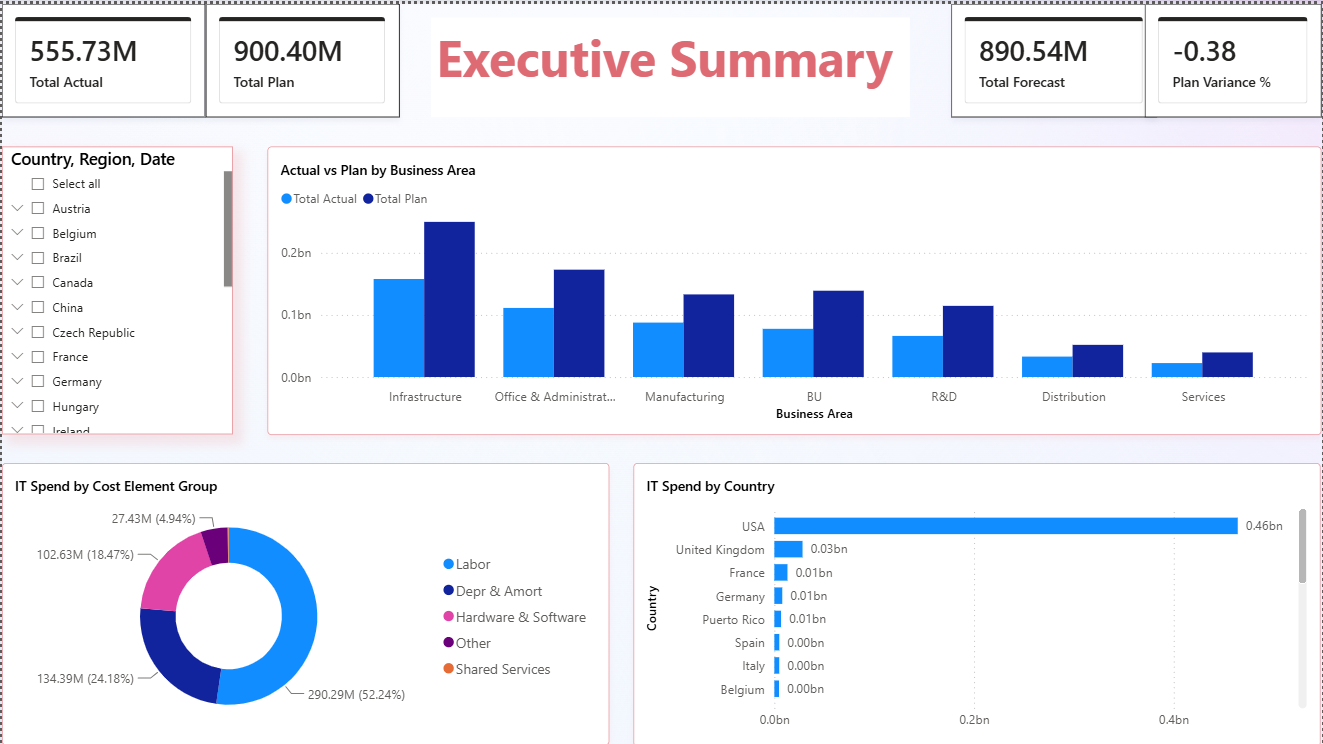

The page's visual inventory and layout, read from the dashboard file:
{"tool":"powerbi","page":{"name":"Executive Summary","canvas":[1280,720],"ordinal":0},"visuals":[{"type":"cardVisual","fields":{"Data":["Data.Total Actual"]},"box":[0,0,197.5,110.1],"z":0},{"type":"cardVisual","fields":{"Data":["Data.Total Plan"]},"box":[197.5,0,187.8,110.1],"z":1},{"type":"cardVisual","fields":{"Data":["Data.Total Forecast"]},"box":[921.3,0,199.2,110.1],"z":2},{"type":"cardVisual","fields":{"Data":["Data.Plan Variance %"]},"box":[1109.2,0,171.6,110.1],"z":3},{"type":"clusteredColumnChart","title":"Actual vs Plan by Business Area","fields":{"Category":["Data.Business Area"],"Y":["Data.Total Actual","Data.Total Plan"]},"box":[257,138,1022.4,279.7],"z":5},{"type":"donutChart","title":"IT Spend by Cost Element Group","fields":{"Category":["Data.Cost Element Group"],"Y":["Data.Total Actual"]},"box":[0,446,589.6,274],"z":6},{"type":"clusteredBarChart","title":"IT Spend by Country","fields":{"Category":["Data.Country"],"Y":["Data.Total Actual"]},"box":[612.8,445.4,666.6,275.1],"z":7},{"type":"slicer","fields":{"Values":["Data.Country","Data.Region","Data.Date"]},"box":[0,138.3,224.2,279.5],"z":8},{"type":"textbox","box":[415.8,13.2,464.9,96.4],"z":9}]}

Visuals, with their boxes in screenshot pixels (x1, y1, x2, y2), scaled from the page's 1280x720 canvas onto the 1323x744 screenshot:
cardVisual - Data.Total Actual: region(0, 0, 204, 114)
cardVisual - Data.Total Plan: region(204, 0, 398, 114)
cardVisual - Data.Total Forecast: region(952, 0, 1158, 114)
cardVisual - Data.Plan Variance %: region(1146, 0, 1322, 114)
"Actual vs Plan by Business Area" clusteredColumnChart: region(266, 143, 1322, 432)
"IT Spend by Cost Element Group" donutChart: region(0, 461, 609, 743)
"IT Spend by Country" clusteredBarChart: region(633, 460, 1322, 743)
slicer - Data.Country x Data.Region: region(0, 143, 232, 432)
textbox: region(430, 14, 910, 113)
